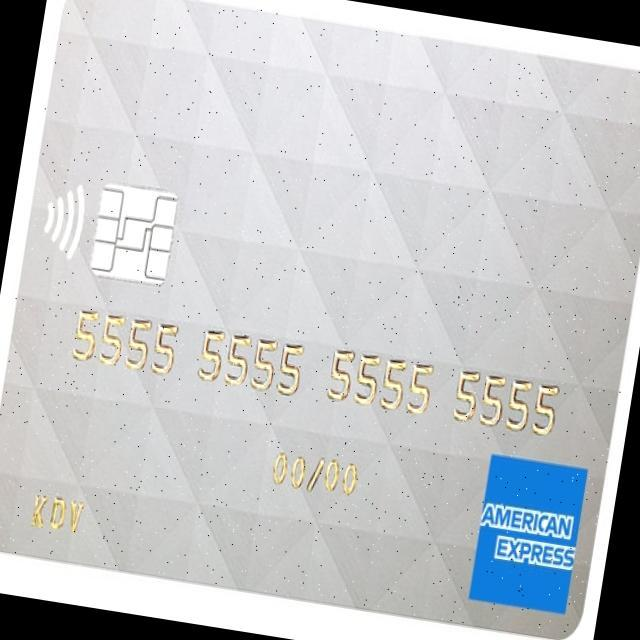payment_card: (1, 0, 638, 638)
